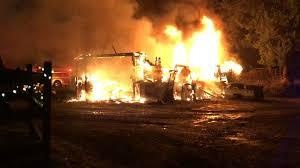fire: (70, 13, 238, 107)
